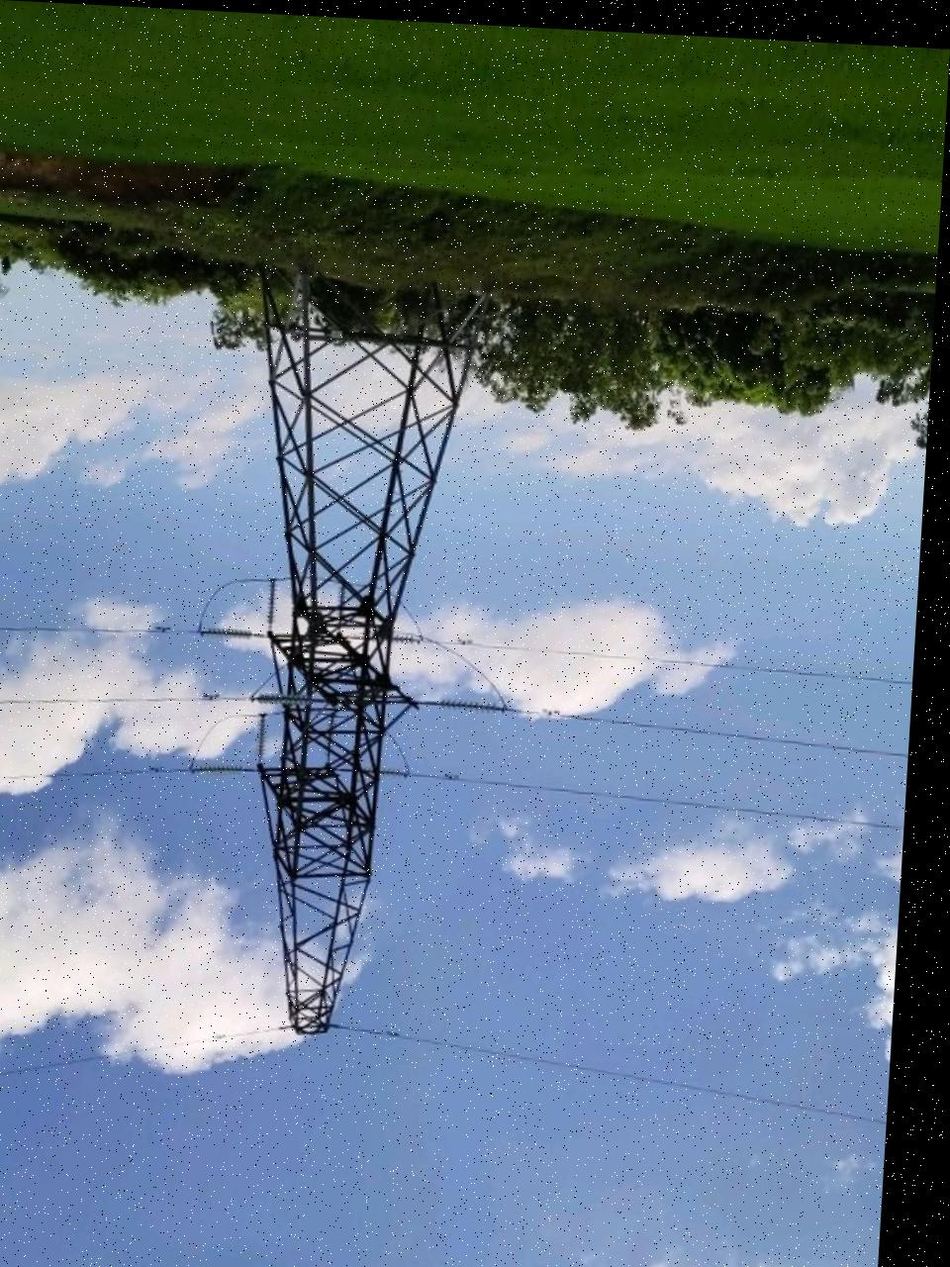tower: (171, 233, 525, 1057)
